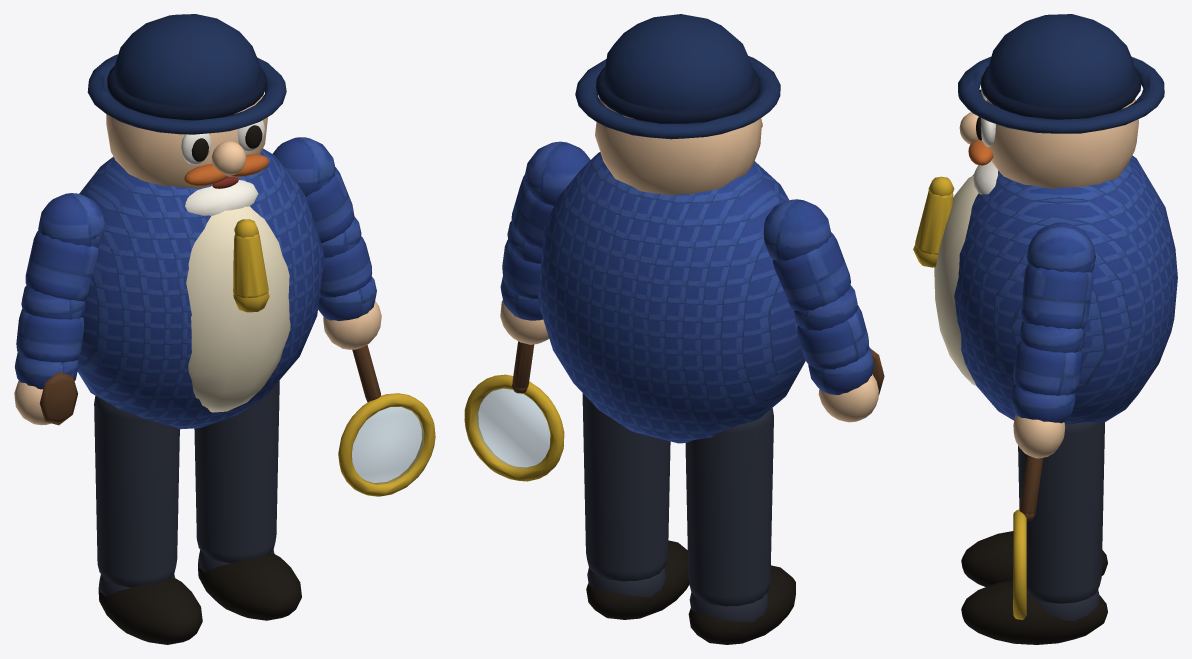
The model's file is watson.glb.
3 views of the same model, side by side, from view 1: azimuth 30°, elevation 25°; view 2: azimuth 150°, elevation 25°; view 3: azimuth 270°, elevation 25° (orthographic). The views are drawn at different scales.
Visible parts, largest first — view 1: W-mesh, W-head-mesh, W-hip-l-mesh, W-hip-r-mesh, W-elbow-r-mesh, W-elbow-l-mesh, W-shoulder-l-mesh, W-shoulder-r-mesh; view 2: W-mesh, W-head-mesh, W-hip-l-mesh, W-hip-r-mesh, W-elbow-r-mesh, W-shoulder-l-mesh, W-elbow-l-mesh, W-shoulder-r-mesh; view 3: W-mesh, W-head-mesh, W-hip-r-mesh, W-elbow-r-mesh, W-shoulder-r-mesh, W-hip-l-mesh.
Boxes of the visible parts, x1,y1,x2,y2 form: W-mesh: (77, 148, 324, 429); W-head-mesh: (87, 14, 286, 188); W-hip-l-mesh: (94, 396, 202, 644); W-hip-r-mesh: (194, 380, 301, 620); W-elbow-r-mesh: (318, 220, 435, 496); W-elbow-l-mesh: (14, 289, 85, 425); W-shoulder-l-mesh: (21, 193, 104, 316); W-shoulder-r-mesh: (273, 137, 358, 242); W-mesh: (538, 152, 805, 443); W-head-mesh: (575, 14, 780, 195); W-hip-l-mesh: (685, 408, 795, 644); W-hip-r-mesh: (582, 393, 689, 619); W-elbow-r-mesh: (464, 239, 564, 481); W-shoulder-l-mesh: (763, 199, 856, 330); W-elbow-l-mesh: (797, 290, 884, 422); W-shoulder-r-mesh: (507, 141, 590, 263); W-mesh: (913, 155, 1177, 424); W-head-mesh: (958, 14, 1164, 188); W-hip-r-mesh: (961, 421, 1107, 644); W-elbow-r-mesh: (1011, 321, 1082, 619); W-shoulder-r-mesh: (1021, 222, 1095, 352); W-hip-l-mesh: (961, 531, 1107, 586).
Bounding box in the file's own units: 1.07 × 1.47 × 0.597.
Materials: 16 (1 with a texture image).
